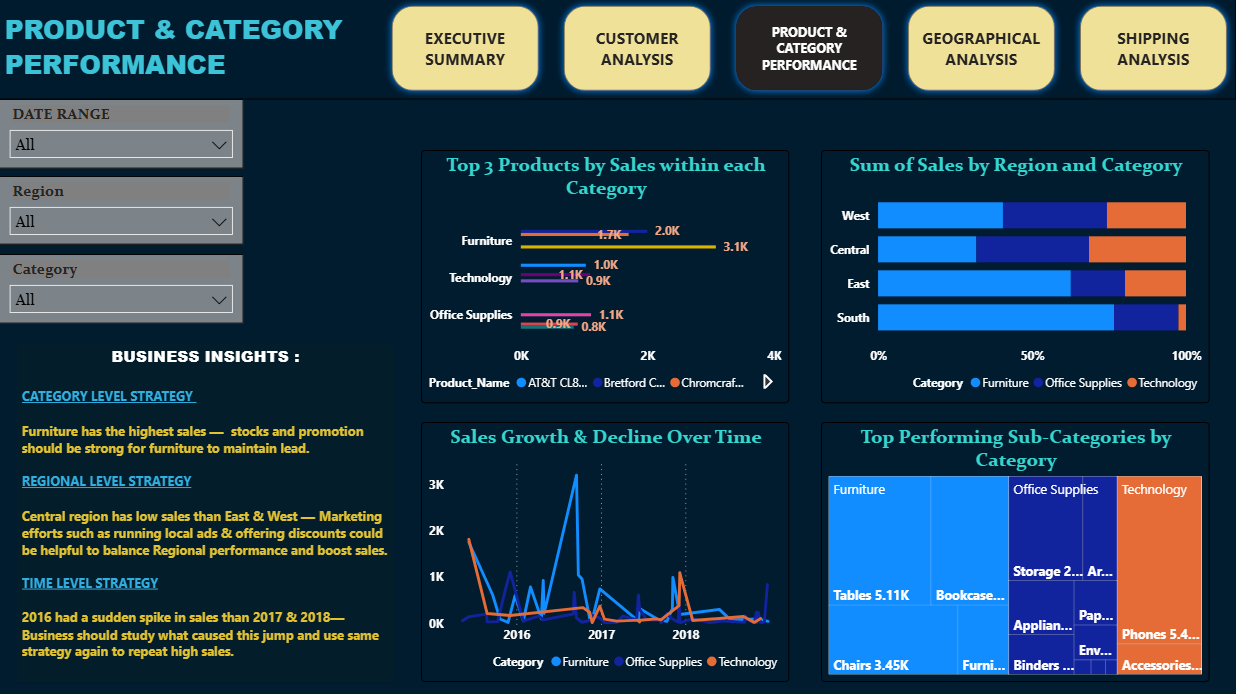

Layout of this report page (visuals, bound fields, positions):
{"tool":"powerbi","page":{"name":"PRODUCT & CATEGORY PERFORMANCE","canvas":[1280,720],"ordinal":2},"visuals":[{"type":"clusteredBarChart","title":"Top 3 Products by Sales within each Category","fields":{"Category":["sales_data.Category"],"Series":["sales_data.Product_Name"],"Y":["_measures.Total Revenue"]},"box":[437,157.4,381.1,261.9],"z":0},{"type":"treemap","title":"Top Performing Sub-Categories by Category","fields":{"Details":["sales_data.Sub_Category"],"Group":["sales_data.Category"],"Values":["Sum(sales_data.Sales)"]},"box":[850.4,438.4,401.7,269.2],"z":1},{"type":"hundredPercentStackedBarChart","fields":{"Category":["sales_data.Region"],"Series":["sales_data.Category"],"Y":["Sum(sales_data.Sales)"]},"box":[850.4,157.4,401.7,261.9],"z":2},{"type":"textbox","box":[0,0,1280,104.8],"z":3},{"type":"lineChart","title":"Sales Growth & Decline Over Time","fields":{"Category":["sales_data.Order_Date_fixed"],"Series":["sales_data.Category"],"Y":["_measures.Total Revenue"]},"box":[437,438.4,381.1,269.2],"z":4},{"type":"slicer","fields":{"Values":["sales_data.Category"]},"box":[0,264.8,253.1,72.1],"z":5},{"type":"slicer","fields":{"Values":["Date.Year","Date.Month"]},"box":[0,104.5,253.1,72.1],"z":6},{"type":"slicer","fields":{"Values":["sales_data.Region"]},"box":[0,183.9,253.1,70.6],"z":7},{"type":"textbox","box":[19.1,357.5,389.9,350.2],"z":8},{"type":"pageNavigator","box":[398.7,0,881.3,104.5],"z":9}]}

Visuals, with their boxes in screenshot pixels (x1, y1, x2, y2), scaled from the page's 1280x720 canvas onto the 1236x694 screenshot:
"Top 3 Products by Sales within each Category" clusteredBarChart: detection(422, 152, 790, 404)
"Top Performing Sub-Categories by Category" treemap: detection(821, 423, 1209, 682)
hundredPercentStackedBarChart - sales_data.Region x sales_data.Category: detection(821, 152, 1209, 404)
textbox: detection(0, 0, 1235, 101)
"Sales Growth & Decline Over Time" lineChart: detection(422, 423, 790, 682)
slicer - sales_data.Category: detection(0, 255, 244, 325)
slicer - Date.Year x Date.Month: detection(0, 101, 244, 170)
slicer - sales_data.Region: detection(0, 177, 244, 245)
textbox: detection(18, 345, 395, 682)
pageNavigator: detection(385, 0, 1235, 101)
